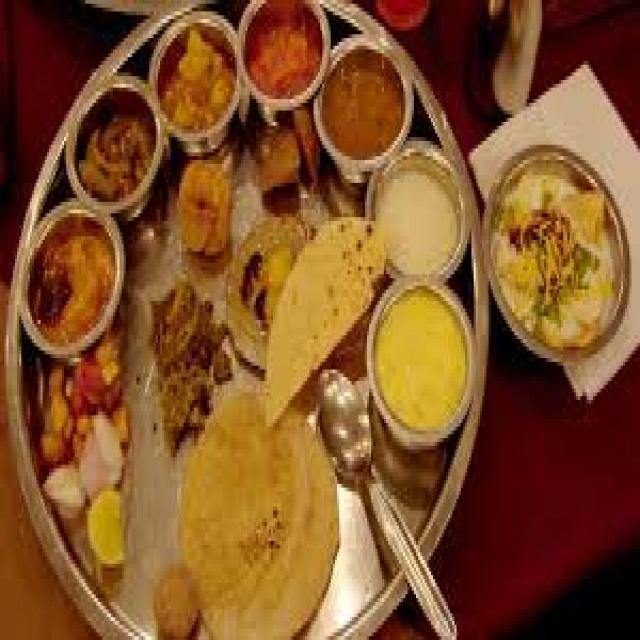dal: (370, 283, 480, 439), (376, 157, 465, 274)
papad: (174, 391, 341, 635), (268, 214, 381, 382)
rice: (491, 166, 620, 358), (156, 13, 238, 143)
sambar-rasam: (317, 31, 414, 171)
sweet: (320, 36, 410, 167), (239, 8, 332, 110), (170, 154, 242, 256)
veg-fry: (19, 207, 127, 361), (63, 85, 168, 219), (243, 2, 330, 111)
